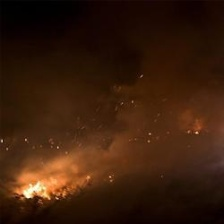fire: (20, 164, 96, 206)
